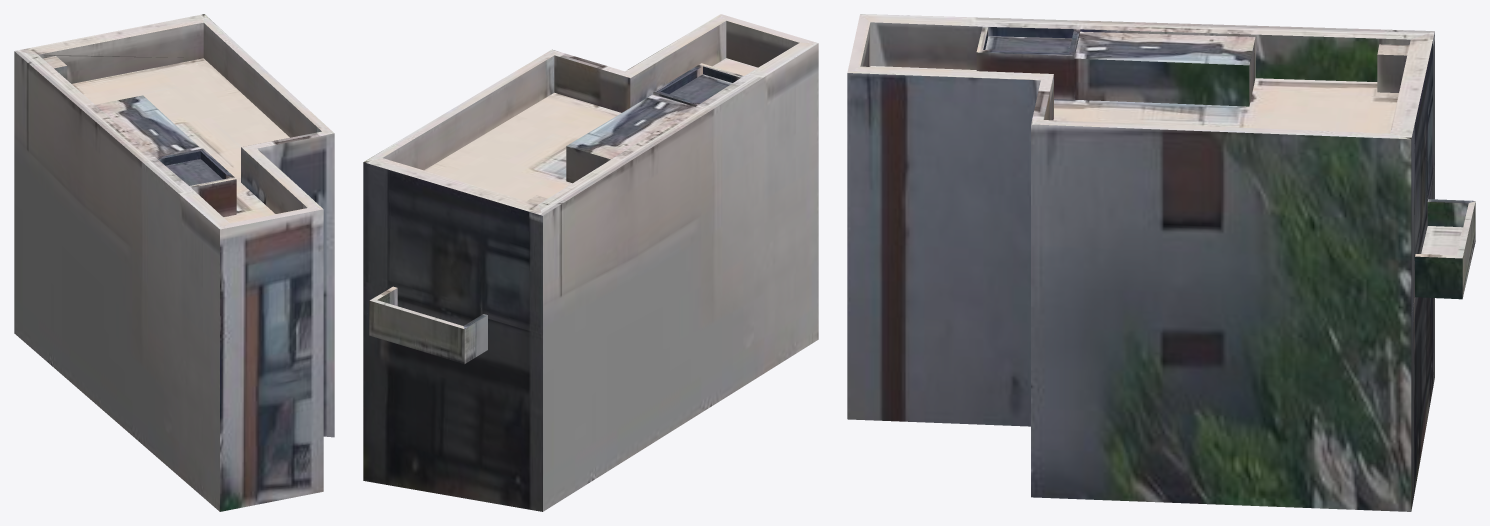
3 views of the same model, side by side, from view 1: azimuth 30°, elevation 25°; view 2: azimuth 150°, elevation 25°; view 3: azimuth 270°, elevation 25° (orthographic). The views are drawn at different scales.
Visible parts, largest first — view 1: B284924037601062A0; view 2: B284924037601062A0; view 3: B284924037601062A0.
Boxes of the visible parts, box(x1,y1,x2,y2) form: B284924037601062A0: box(14, 14, 334, 511); B284924037601062A0: box(363, 14, 818, 511); B284924037601062A0: box(847, 14, 1475, 511).
Bounding box in the file's own units: 7.64 × 10.6 × 16.19.
1 material, 1 textured.
